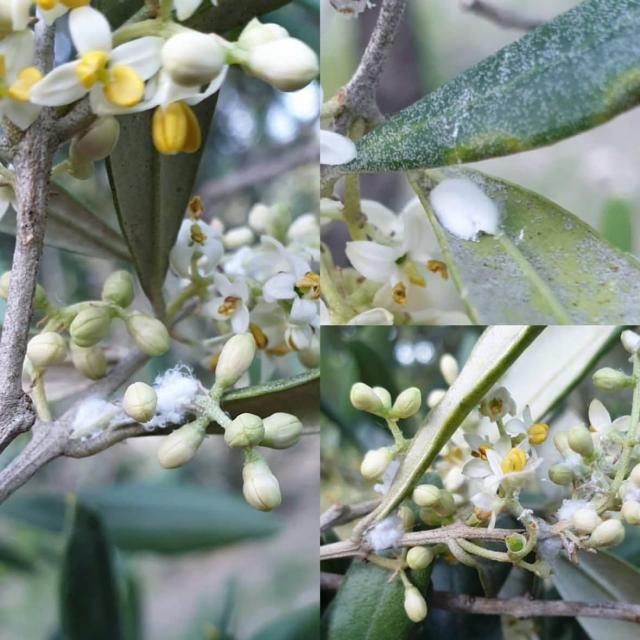Psyllid: (548, 400, 639, 551), (65, 364, 208, 456), (429, 175, 502, 241), (365, 505, 413, 554)
